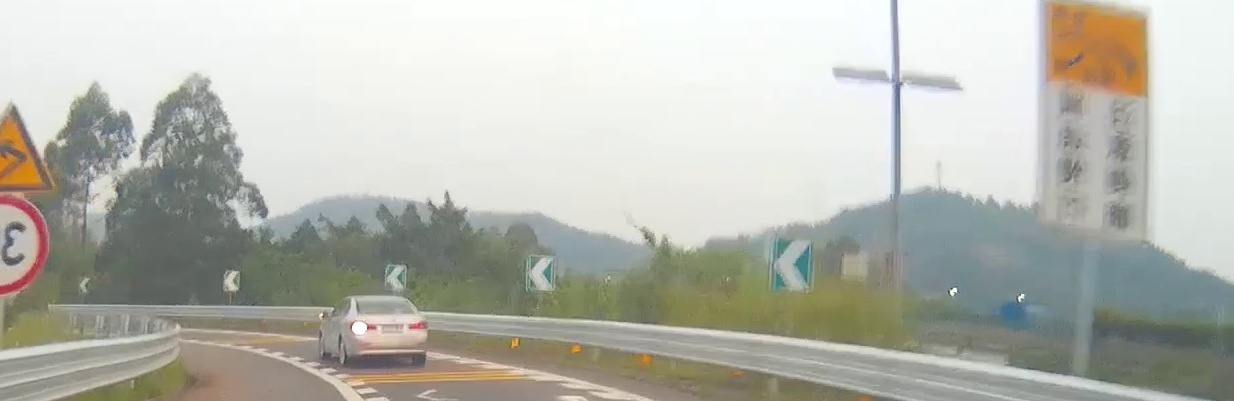L_light: (351, 321, 377, 331)
R_light: (408, 320, 428, 329)
T_light: (377, 300, 390, 303)
day-left: (347, 296, 428, 366)
